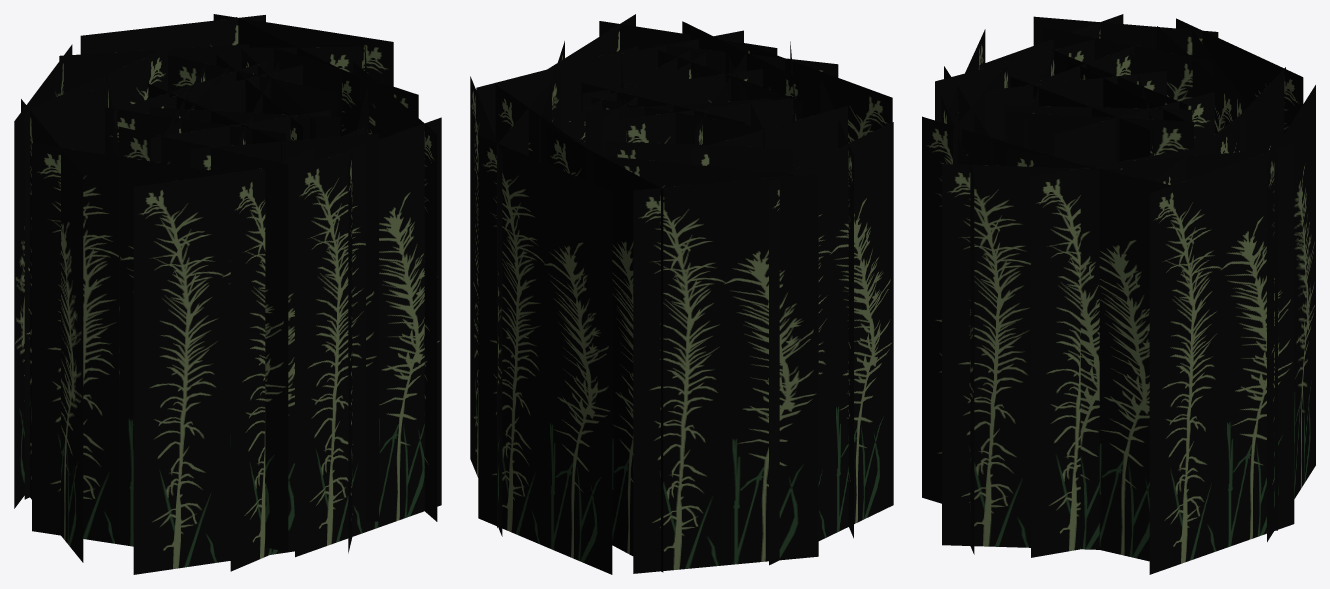
Rendered from space_loach.fbx.
The picture shows the model from 3 angles, left to right: view 1: azimuth 30°, elevation 25°; view 2: azimuth 150°, elevation 25°; view 3: azimuth 270°, elevation 25°; orthographic projection.
Visible parts, largest first — view 1: Cube_49; view 2: Cube_49; view 3: Cube_49.
Boxes of the visible parts, x1,y1,x2,y2 form: Cube_49: (14, 14, 441, 574); Cube_49: (470, 14, 893, 574); Cube_49: (922, 14, 1315, 574).
Size of the model in its own units: 80.85 by 81.87 by 74.82.
1 material, 1 textured.
